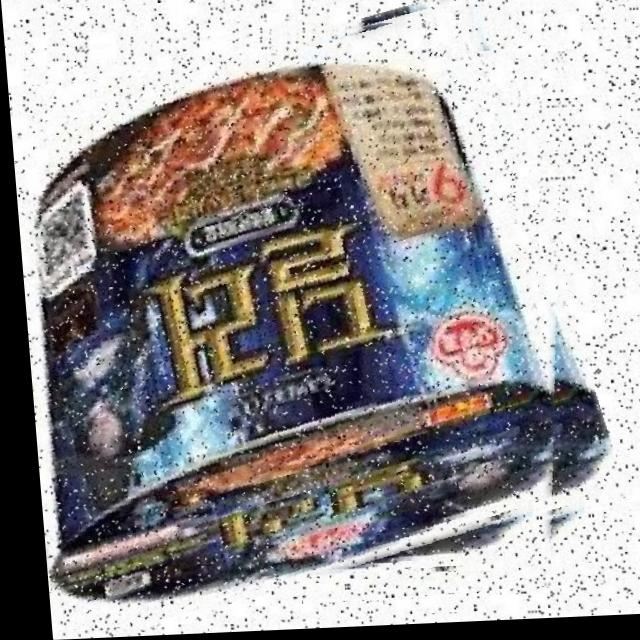Miscellaneous: (2, 15, 598, 615)
